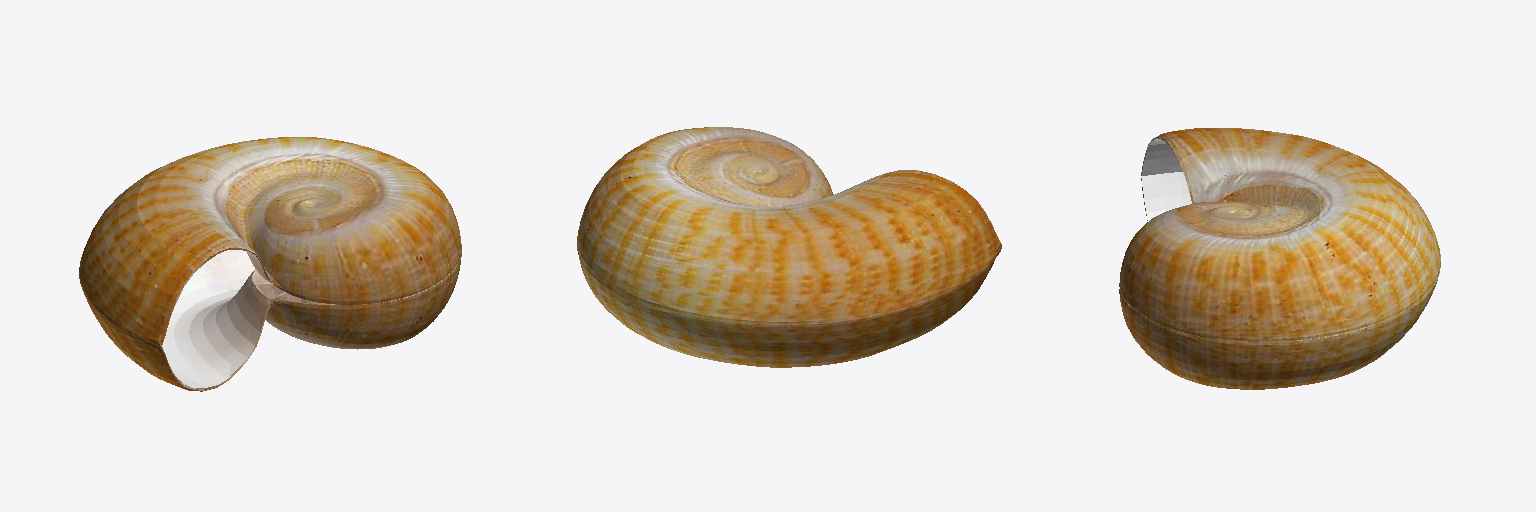
3 renders of one model, left to right at view 1: azimuth 30°, elevation 25°; view 2: azimuth 150°, elevation 25°; view 3: azimuth 270°, elevation 25°, orthographic.
Visible parts, largest first — view 1: group1 hailuo1, hailuo group1; view 2: group1 hailuo1, hailuo group1; view 3: group1 hailuo1, hailuo group1.
Part boxes in pixels (left/top/right/bottom): group1 hailuo1: left=79, top=137, right=461, bottom=346; hailuo group1: left=80, top=250, right=461, bottom=391; group1 hailuo1: left=577, top=127, right=1001, bottom=324; hailuo group1: left=577, top=245, right=1001, bottom=367; group1 hailuo1: left=1119, top=128, right=1440, bottom=341; hailuo group1: left=1119, top=172, right=1440, bottom=389.
Size of the model in its own units: 137 by 54.22 by 108.
Materials: 1 (1 with a texture image).